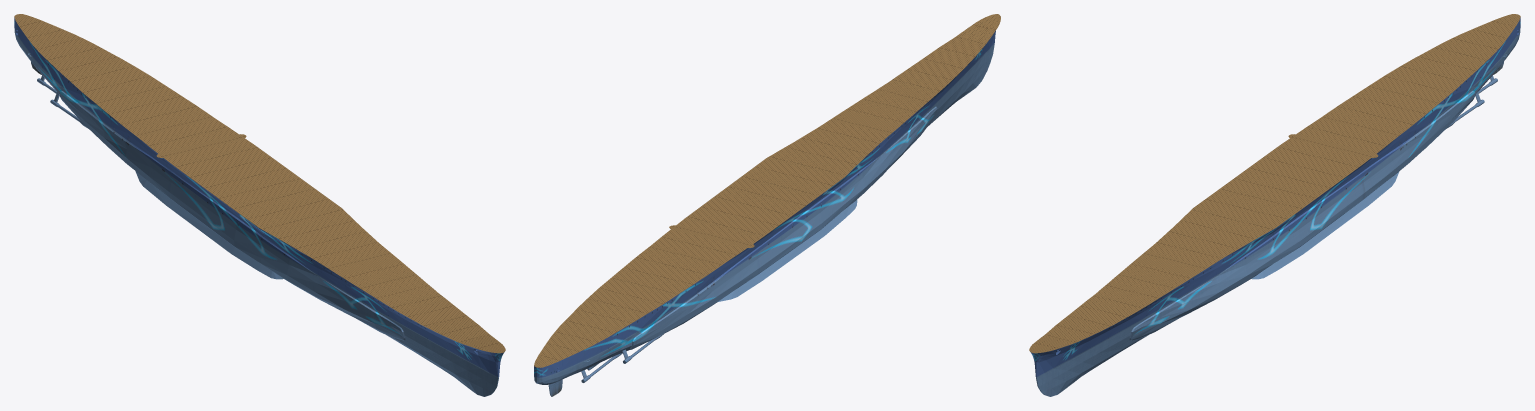
File: takao-clean-hull.glb
3 renders of one model, left to right at view 1: azimuth 30°, elevation 25°; view 2: azimuth 150°, elevation 25°; view 3: azimuth 330°, elevation 25°, orthographic. The views are drawn at different scales.
Visible parts, largest first — view 1: Clean_mounting_deck, Clean_MidBackShape, Clean_MidFrontShape, Clean_BowShape, Clean_MidFront_patch_MidBackShape, Clean_SternShape, Clean_Bow_patch_MidFrontShape; view 2: Clean_mounting_deck, Clean_MidBackShape, Clean_MidFrontShape, Clean_SternShape, Clean_BowShape, Clean_MidFront_patch_MidBackShape, Clean_MidBack_patch_SternShape; view 3: Clean_mounting_deck, Clean_MidBackShape, Clean_MidFrontShape, Clean_BowShape, Clean_MidFront_patch_MidBackShape, Clean_SternShape, Clean_Bow_patch_MidFrontShape.
Boxes of the visible parts, x1=… form: Clean_mounting_deck: x1=14, y1=14, x2=505, y2=353; Clean_MidBackShape: x1=59, y1=73, x2=218, y2=239; Clean_MidFrontShape: x1=232, y1=210, x2=400, y2=343; Clean_BowShape: x1=399, y1=312, x2=504, y2=396; Clean_MidFront_patch_MidBackShape: x1=212, y1=196, x2=237, y2=253; Clean_SternShape: x1=14, y1=17, x2=56, y2=93; Clean_Bow_patch_MidFrontShape: x1=387, y1=305, x2=413, y2=351; Clean_mounting_deck: x1=534, y1=14, x2=1000, y2=367; Clean_MidBackShape: x1=630, y1=208, x2=805, y2=354; Clean_MidFrontShape: x1=818, y1=95, x2=935, y2=235; Clean_SternShape: x1=534, y1=329, x2=621, y2=396; Clean_BowShape: x1=932, y1=30, x2=995, y2=122; Clean_MidFront_patch_MidBackShape: x1=800, y1=194, x2=824, y2=248; Clean_MidBack_patch_SternShape: x1=596, y1=321, x2=635, y2=365; Clean_mounting_deck: x1=1029, y1=14, x2=1520, y2=353; Clean_MidBackShape: x1=1316, y1=73, x2=1475, y2=239; Clean_MidFrontShape: x1=1134, y1=210, x2=1302, y2=343; Clean_BowShape: x1=1030, y1=312, x2=1135, y2=396; Clean_MidFront_patch_MidBackShape: x1=1297, y1=196, x2=1322, y2=253; Clean_SternShape: x1=1478, y1=17, x2=1520, y2=93; Clean_Bow_patch_MidFrontShape: x1=1121, y1=305, x2=1147, y2=351.
Size of the model in its own units: 14.36 by 9.19 by 136.
2 materials, 2 textured.
